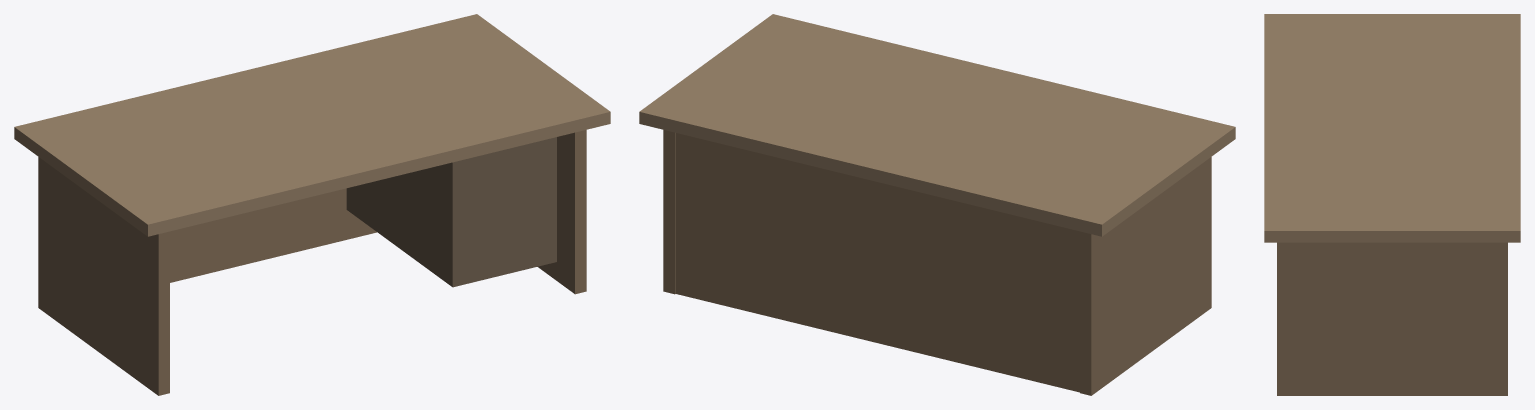
Rendered from desk.glb.
3 views of the same model, side by side, from view 1: azimuth 30°, elevation 25°; view 2: azimuth 150°, elevation 25°; view 3: azimuth 270°, elevation 25° (orthographic). The views are drawn at different scales.
Bounding box in the file's own units: 2 × 0.745 × 1.
